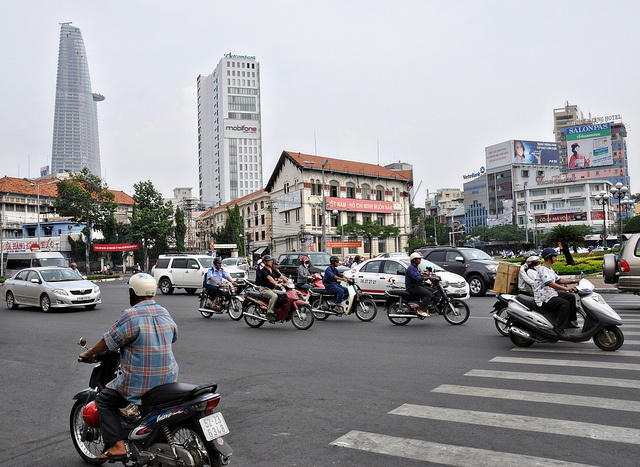non-vehicle: (70, 348, 232, 460), (505, 270, 625, 350), (383, 266, 470, 325), (242, 282, 314, 330), (308, 282, 376, 320), (196, 276, 243, 322), (488, 294, 516, 339), (292, 271, 325, 302)
